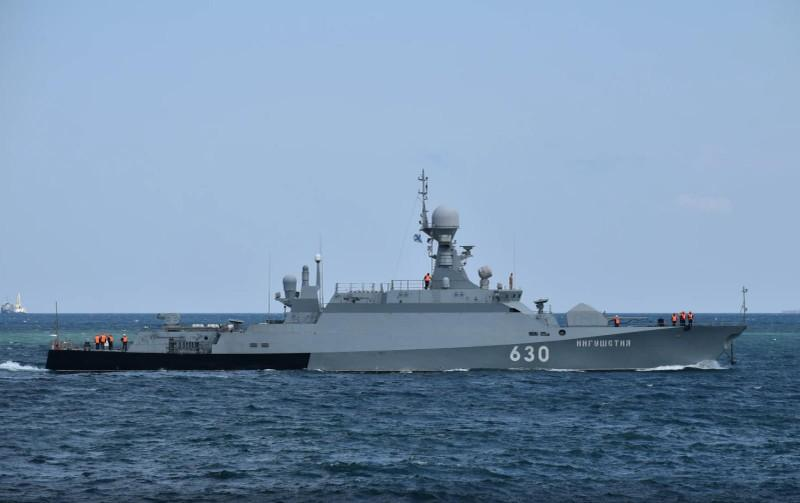MIL_Ship: (42, 194, 750, 372)
